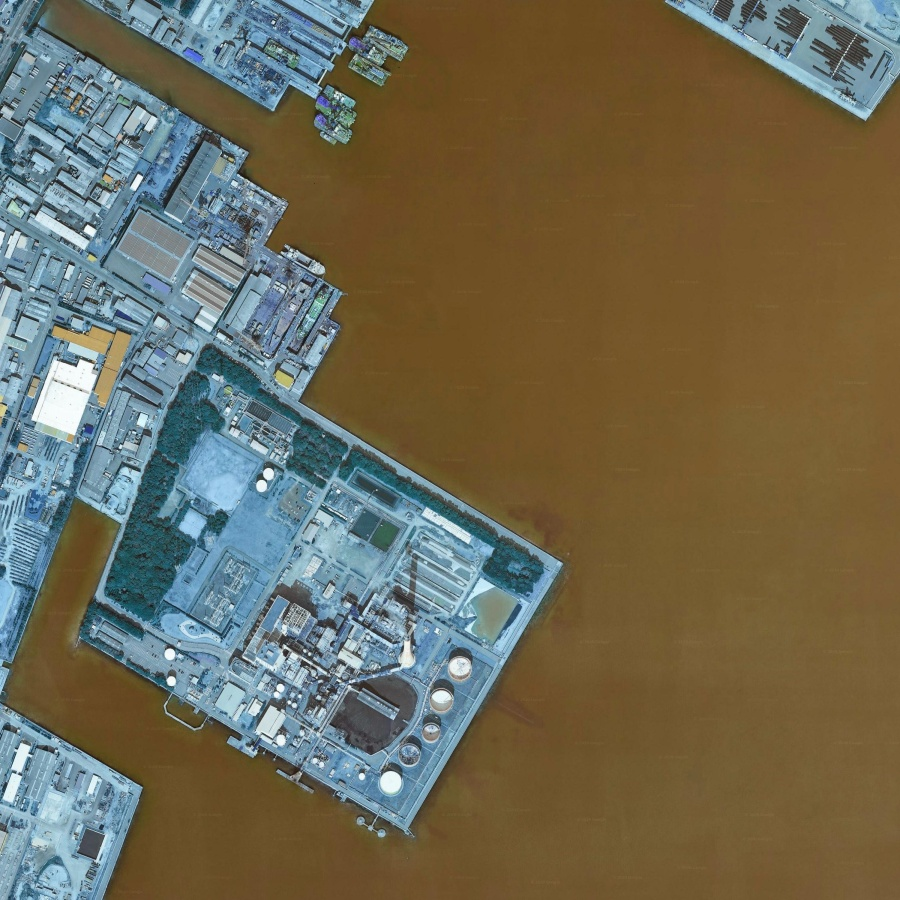PowerPlant: (158, 508, 527, 828)
